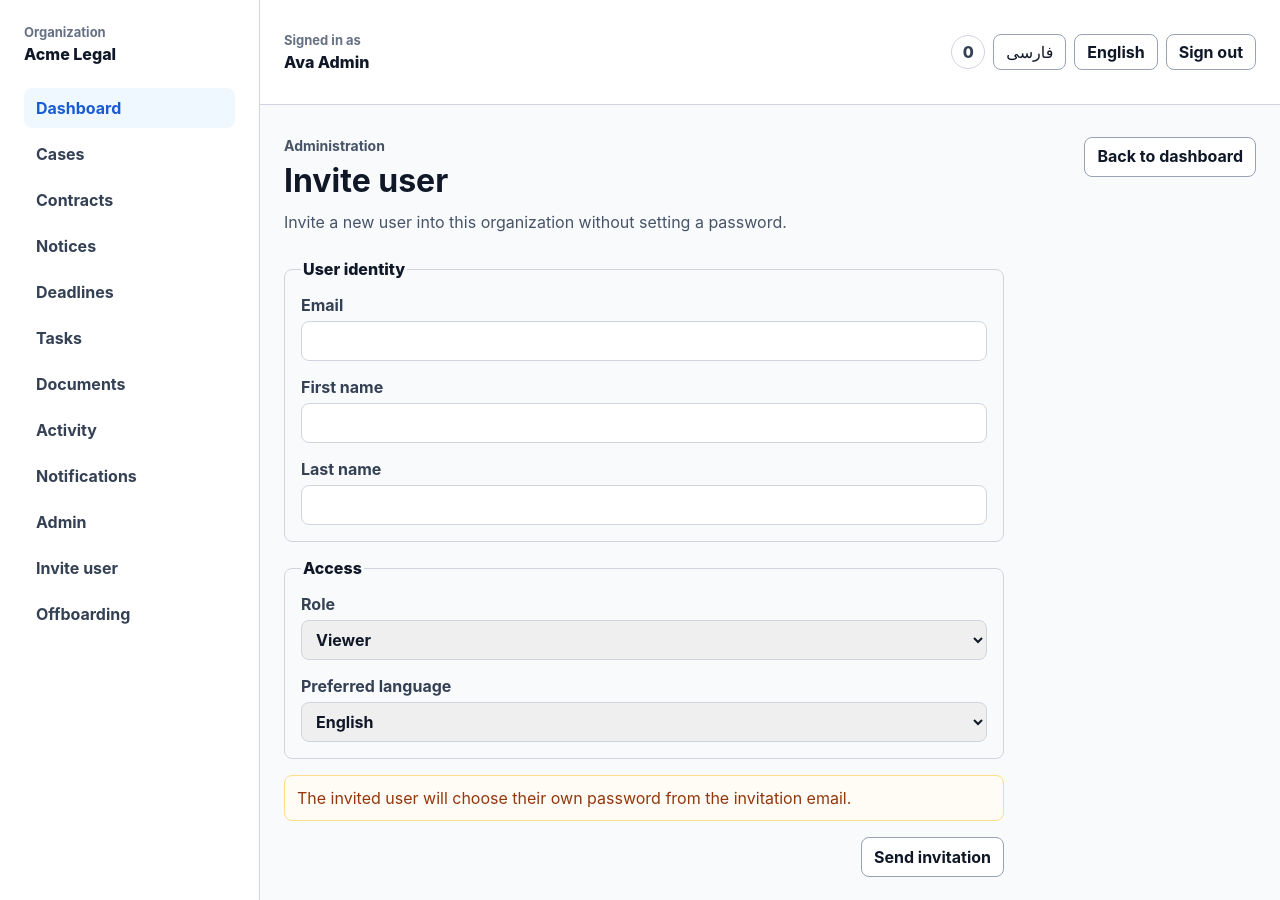
Test: admin invites a user without password or organization fields
Type "new.user@example.test" into the field labelled "Email" at (644, 341), box [301,321,987,361]
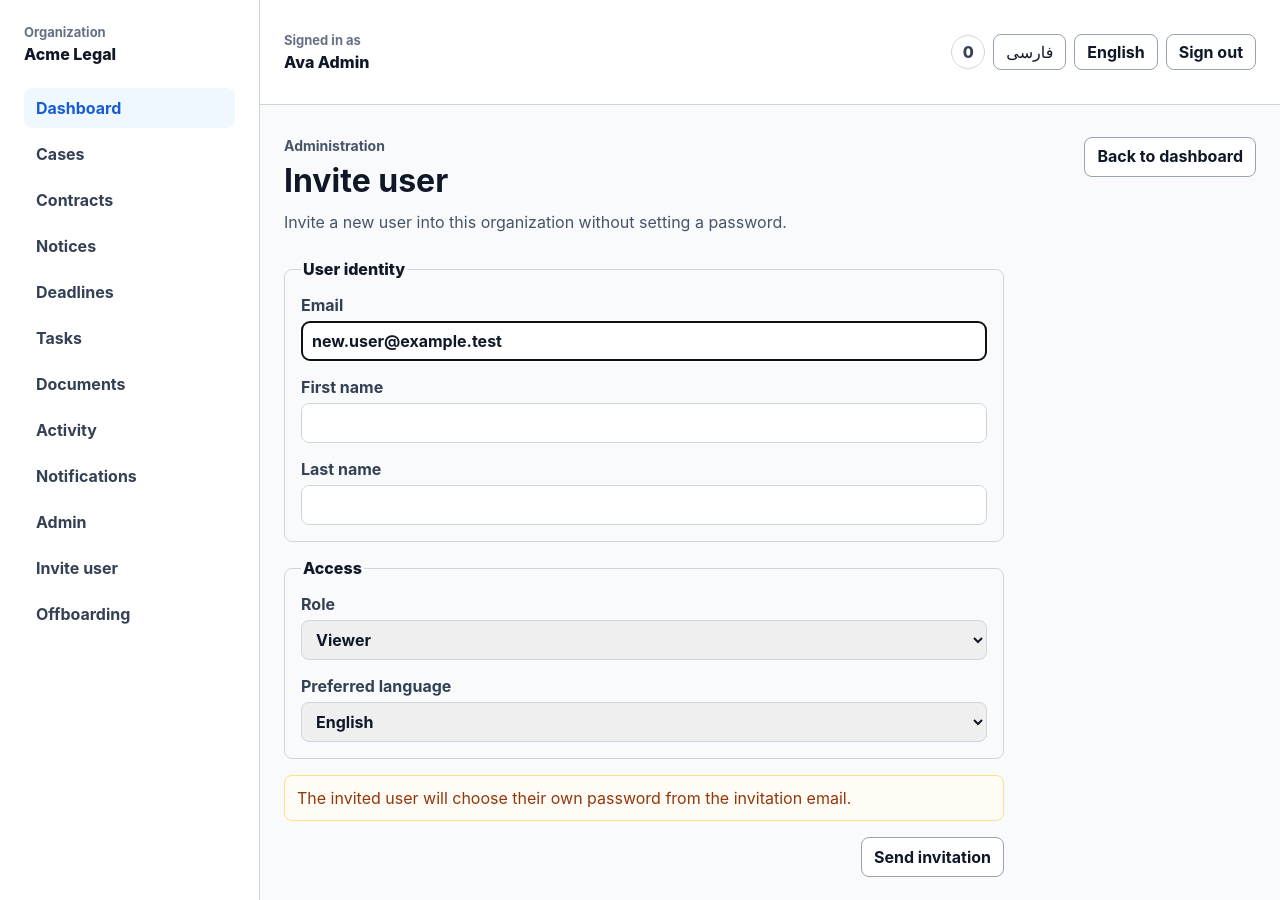
Type "New" into the field labelled "First name" at (644, 423), box [301,403,987,443]
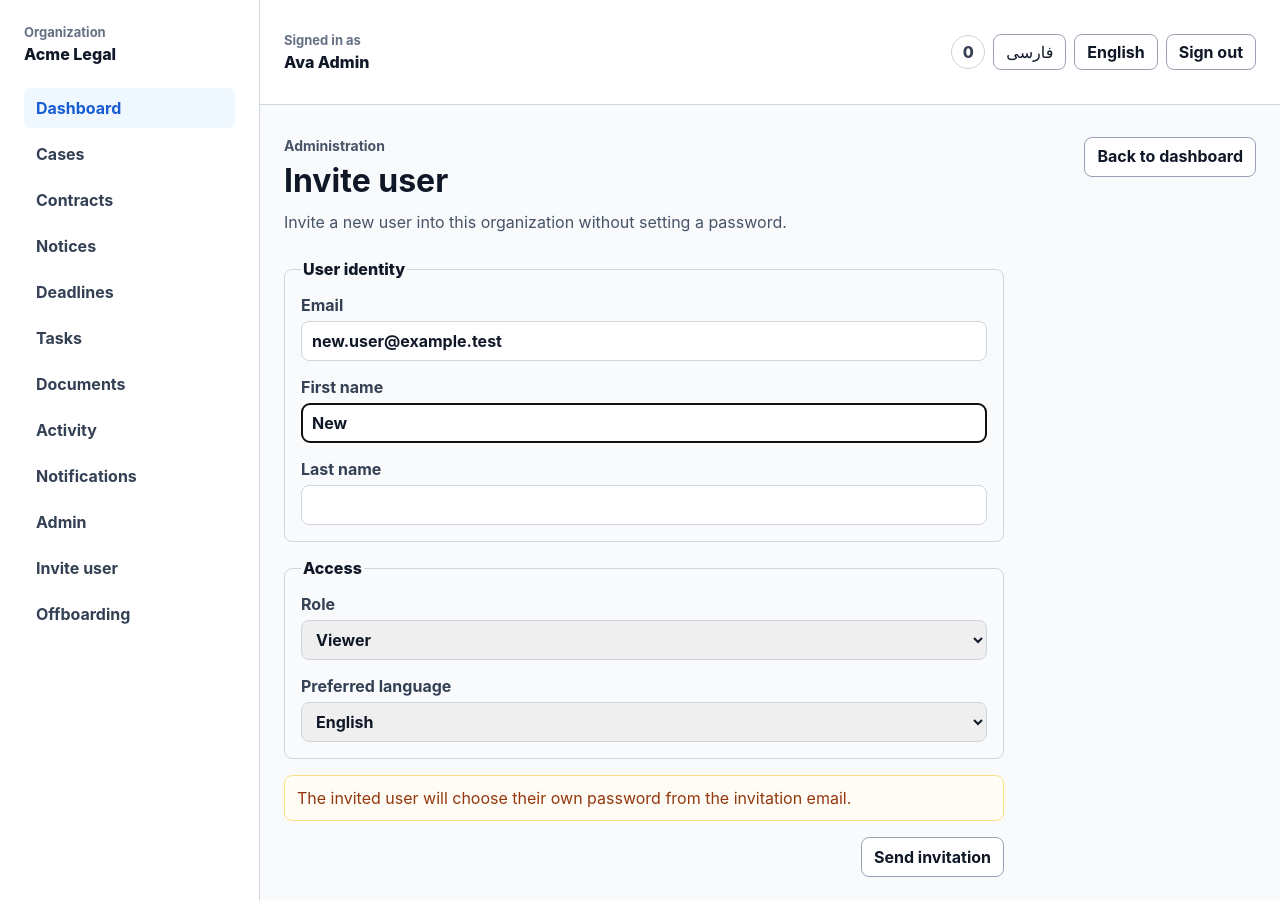
Type "User" into the field labelled "Last name" at (644, 505), box [301,485,987,525]
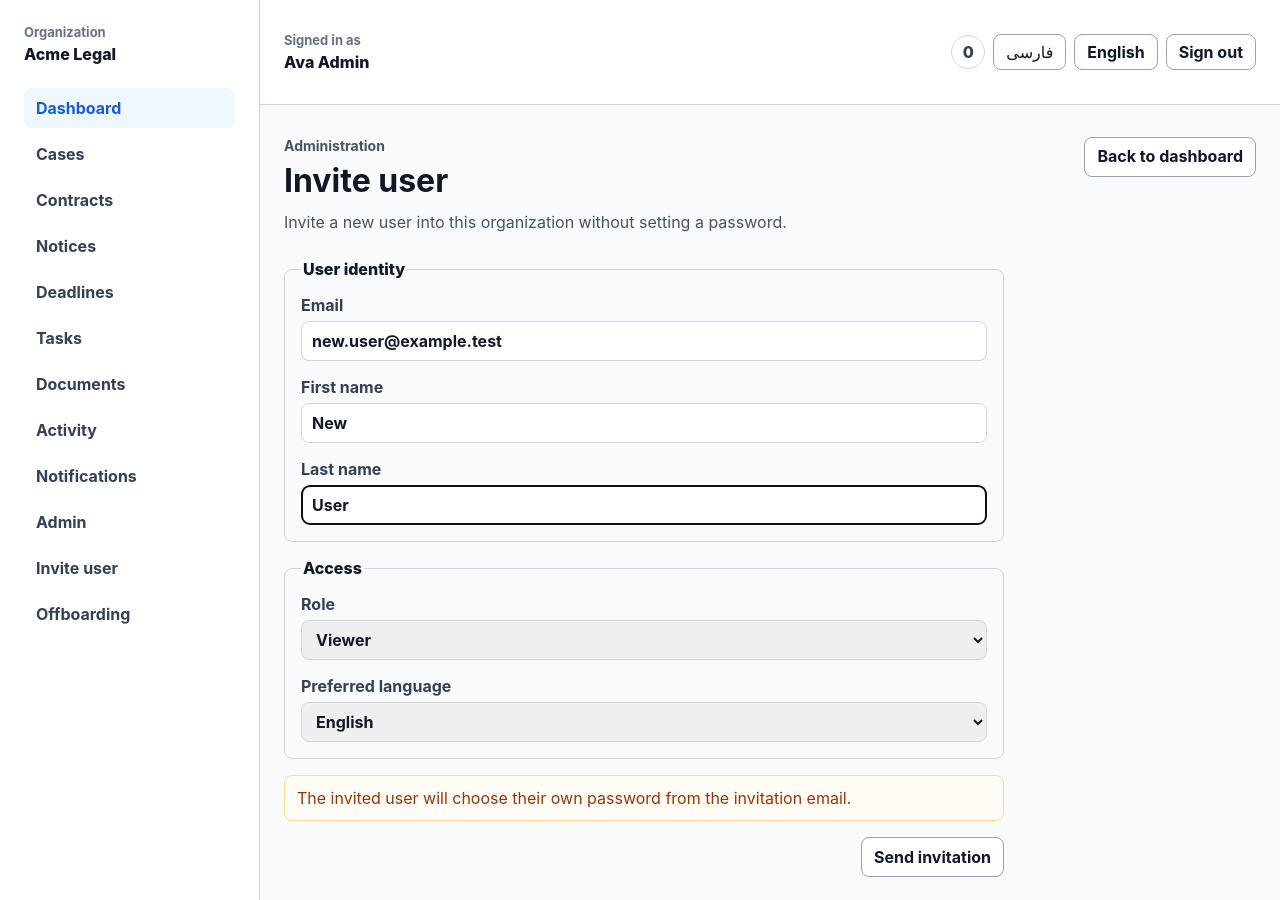
Select "Legal Manager" in the dropdown labelled "Role" at (644, 640), box [301,620,987,660]
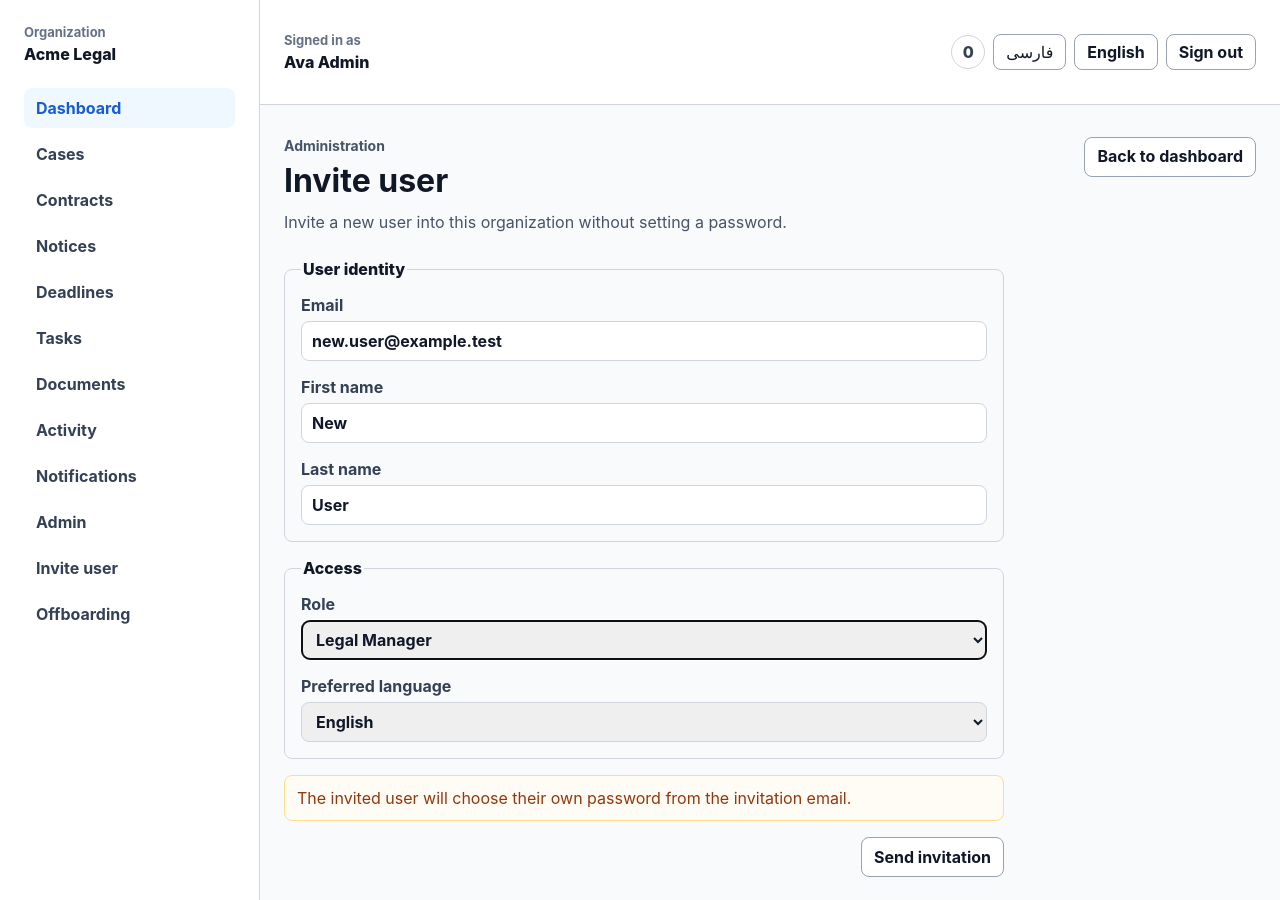
Select "فارسی" in the dropdown labelled "Preferred language" at (644, 722), box [301,702,987,742]
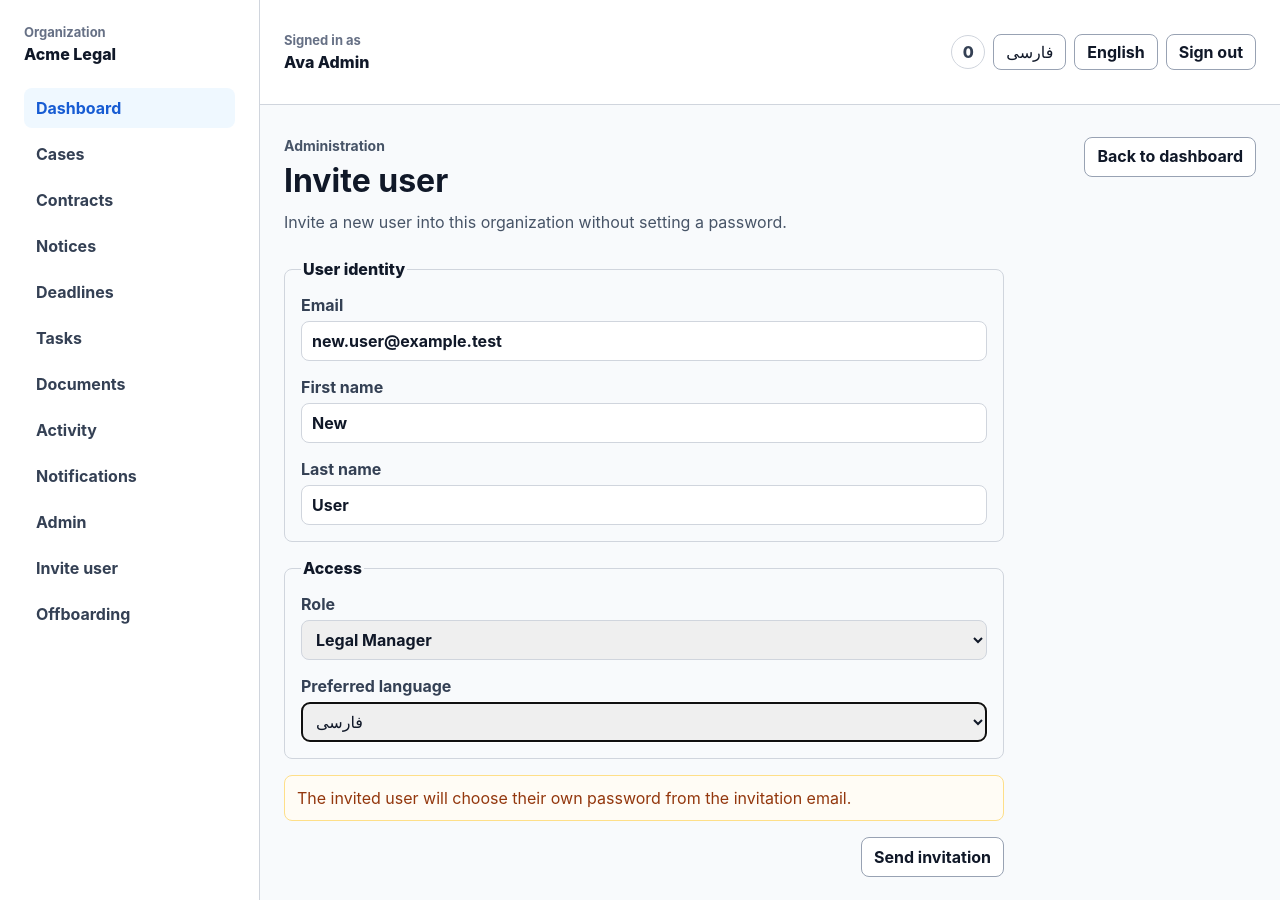
Click the button "Send invitation" at (932, 857), box [861,837,1004,877]
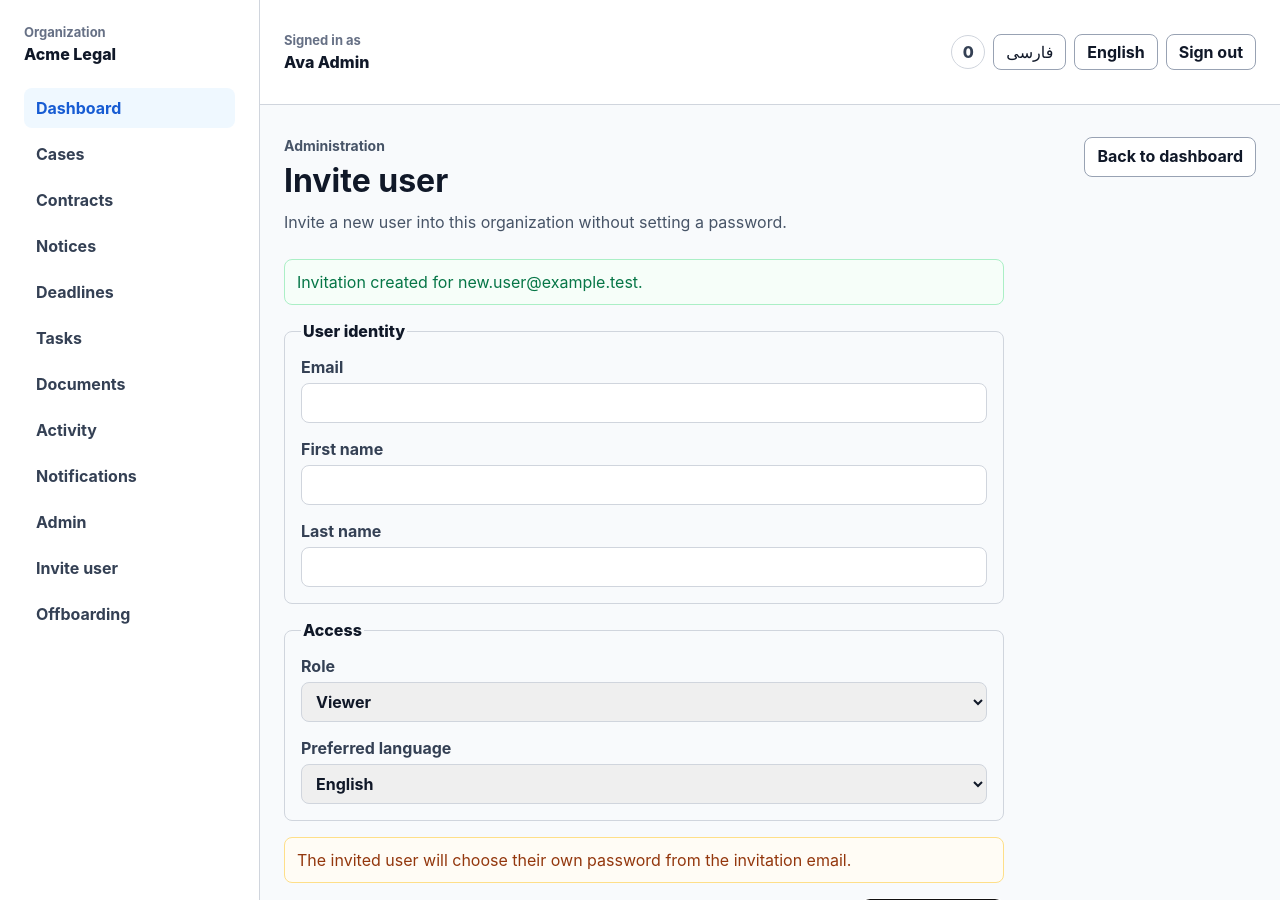
Expected: the message shows "new.user@example.test", [297,272,643,292]
